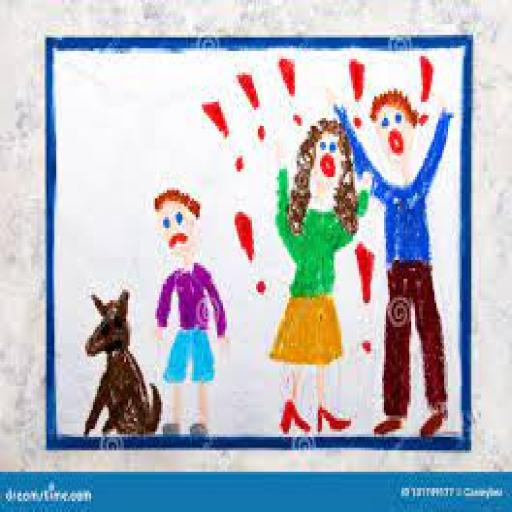person: (337, 70, 467, 440), (268, 117, 364, 441), (147, 176, 233, 447)
